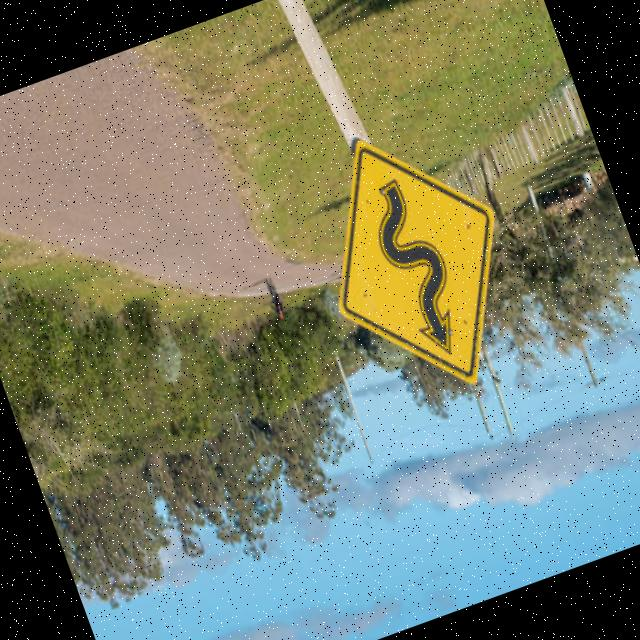left_sharp_curve: (278, 88, 558, 421)
